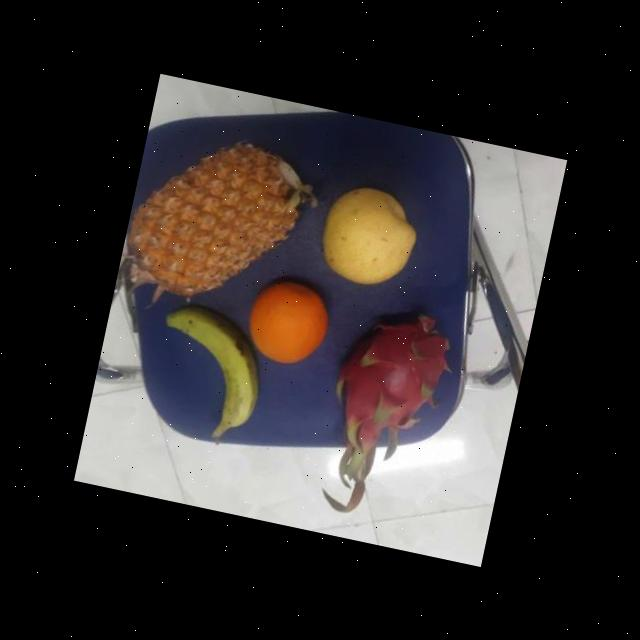orange: (238, 272, 339, 374)
pear: (309, 179, 427, 294)
pineapple: (115, 113, 318, 319)
pitaya: (323, 296, 460, 458)
